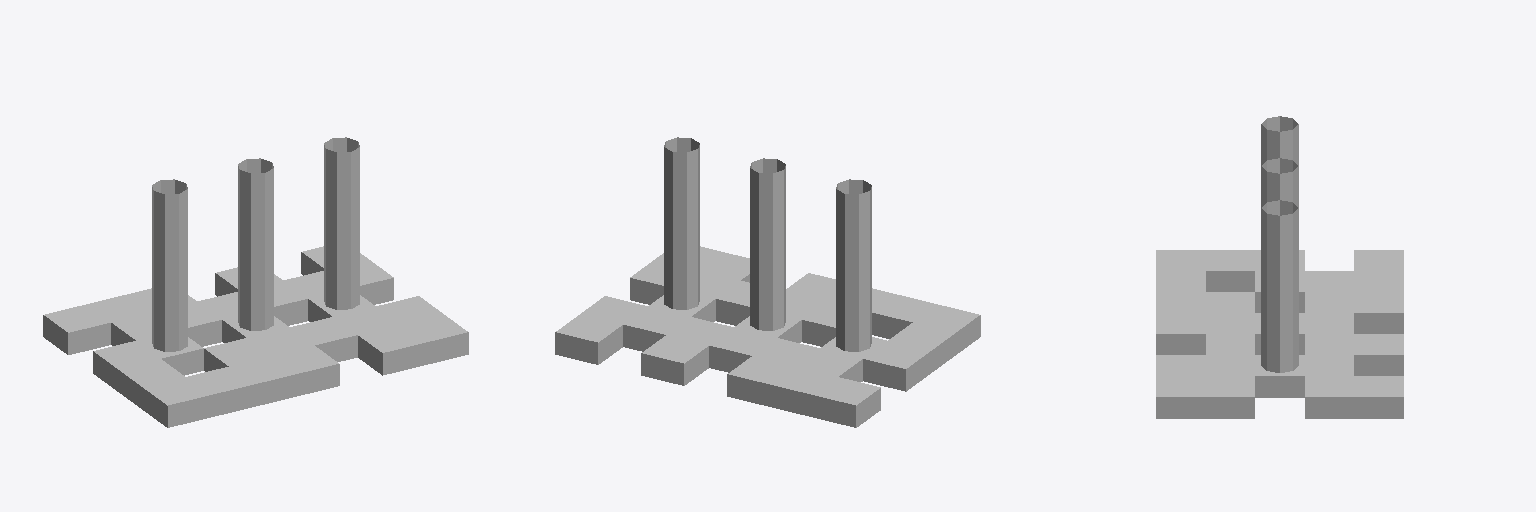
File: DeathCeiling.obj
3 renders of one model, left to right at view 1: azimuth 30°, elevation 25°; view 2: azimuth 150°, elevation 25°; view 3: azimuth 270°, elevation 25°, orthographic.
Size of the model in its own units: 14 by 8 by 10.